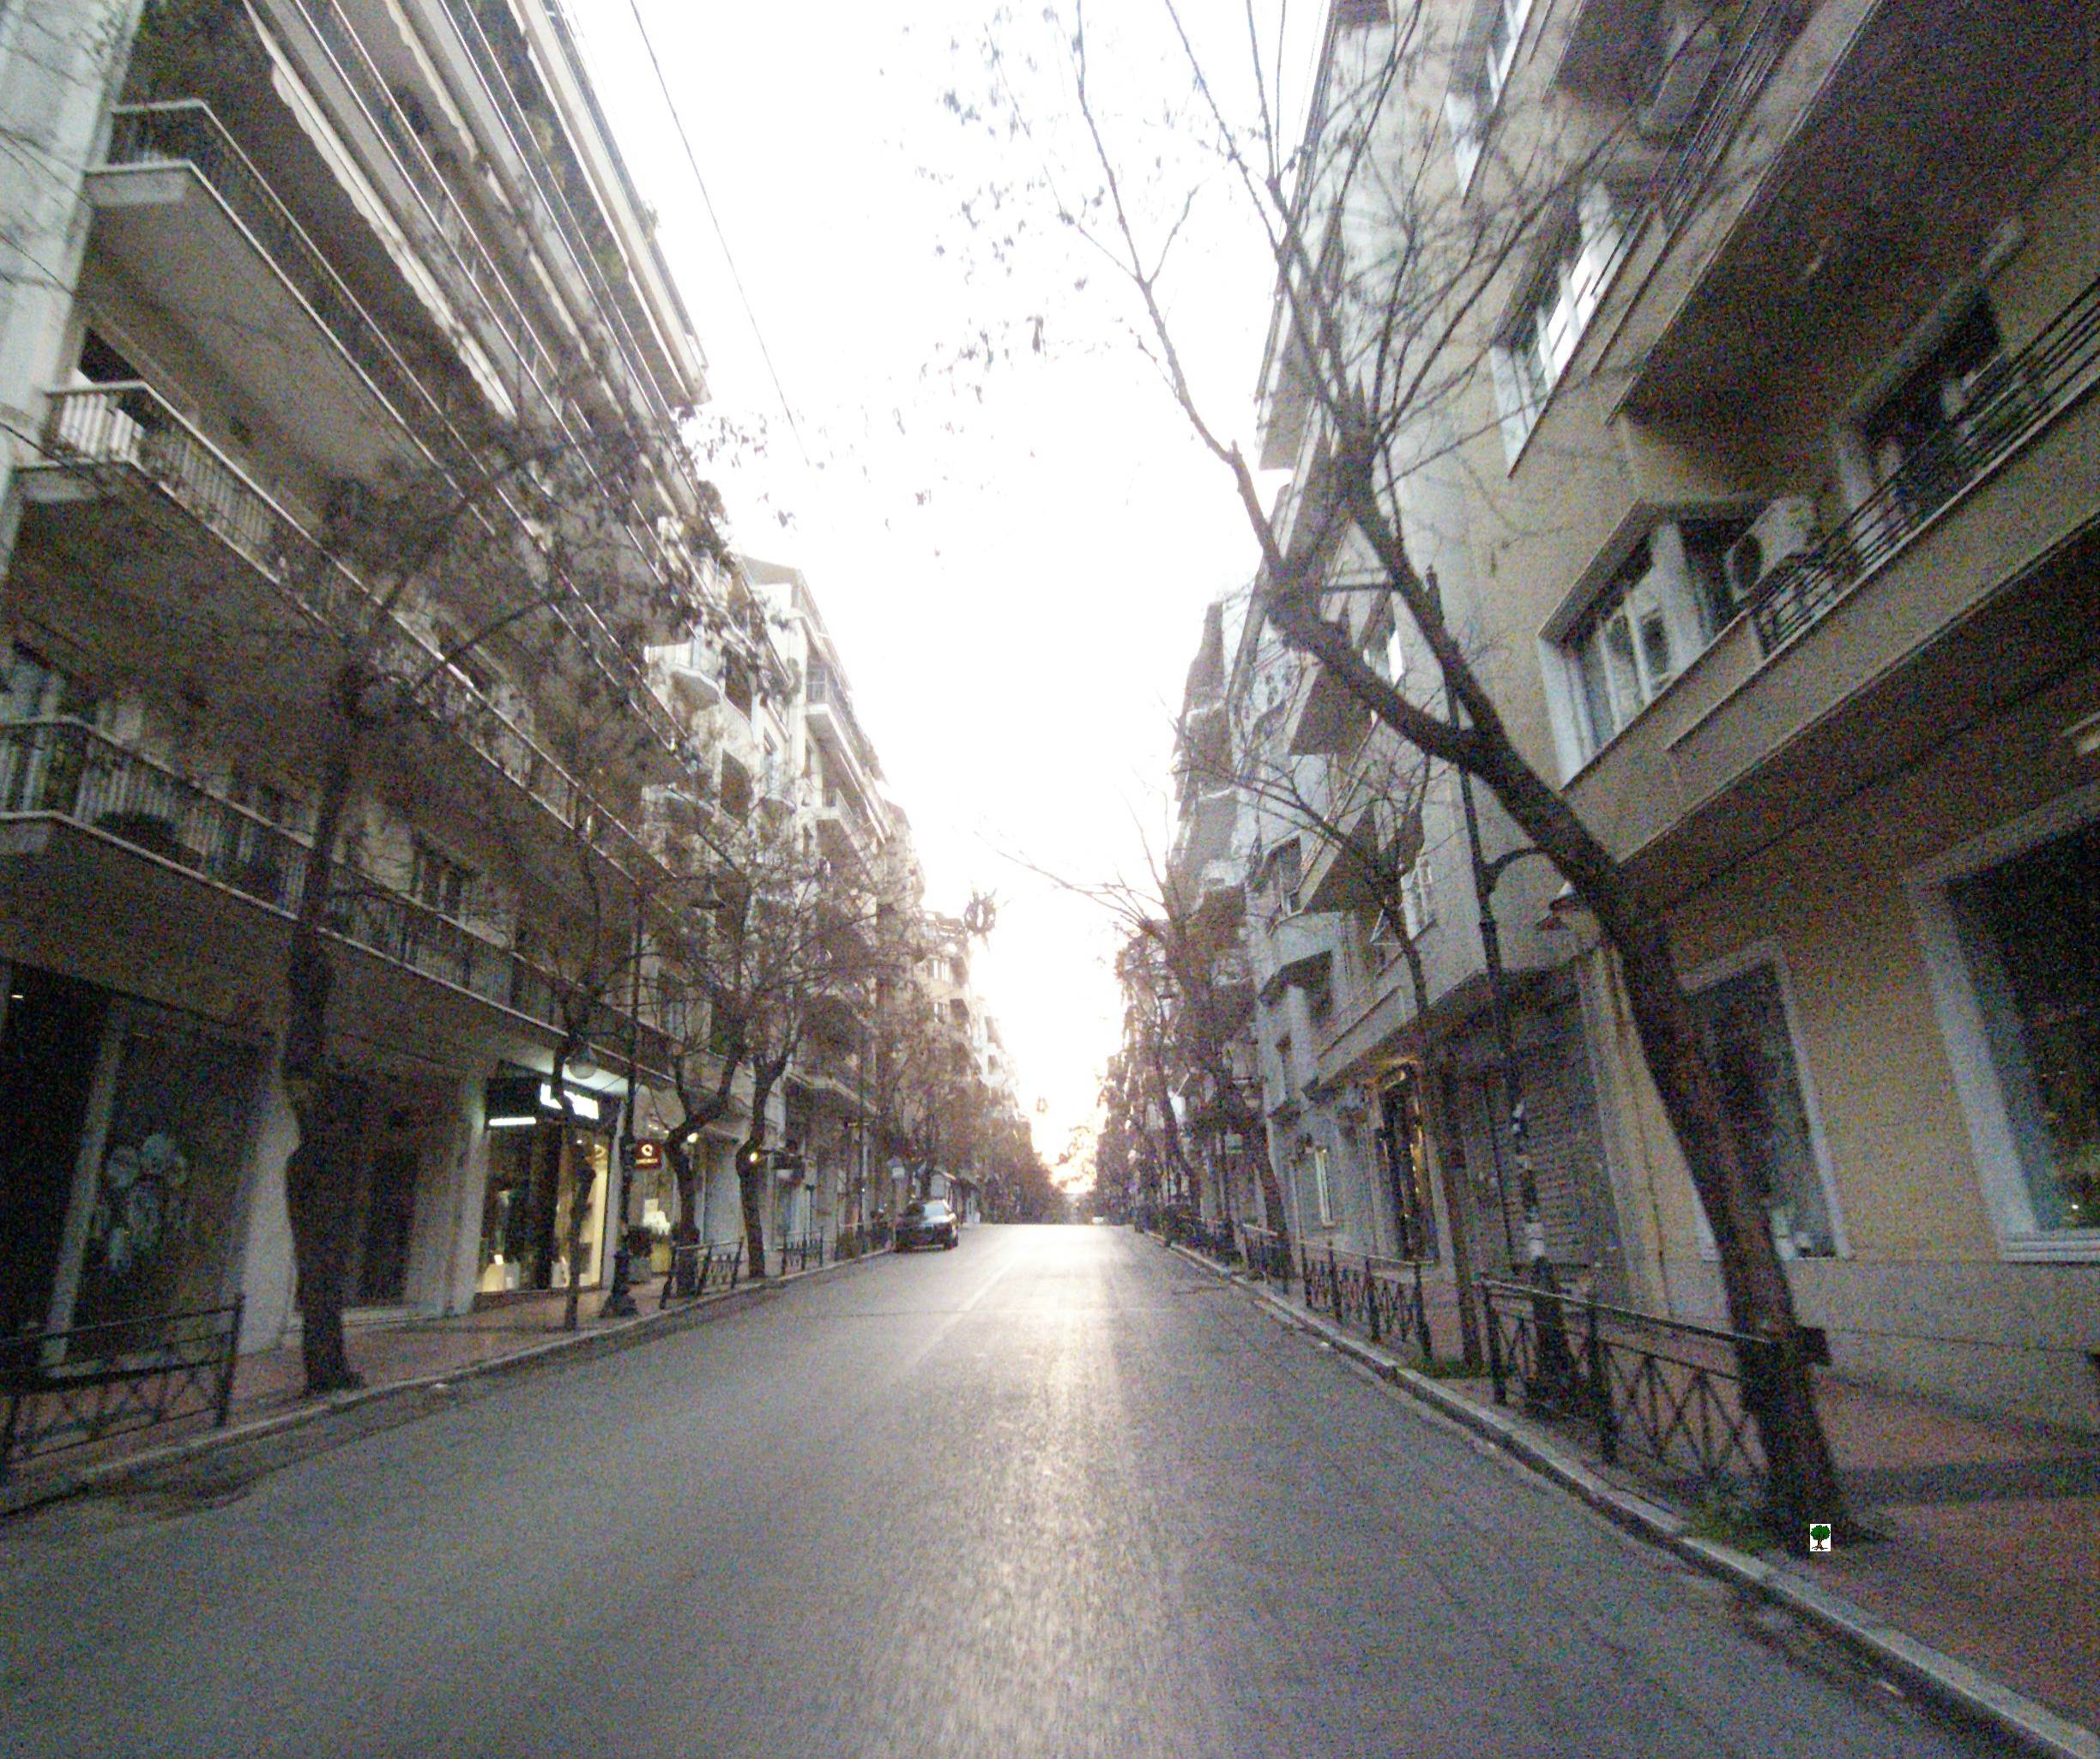tree: (211, 215, 539, 1473)
